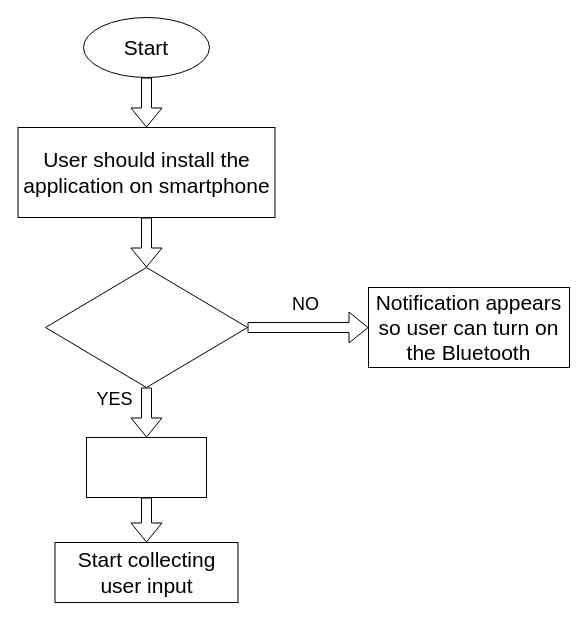
Image size: 587x620. Some labels were removed from this diagram. Each missing label, with the centre of its shape:
"Bluetooth is ON?" goes at point 146,327.
"Continue" goes at point 146,467.
